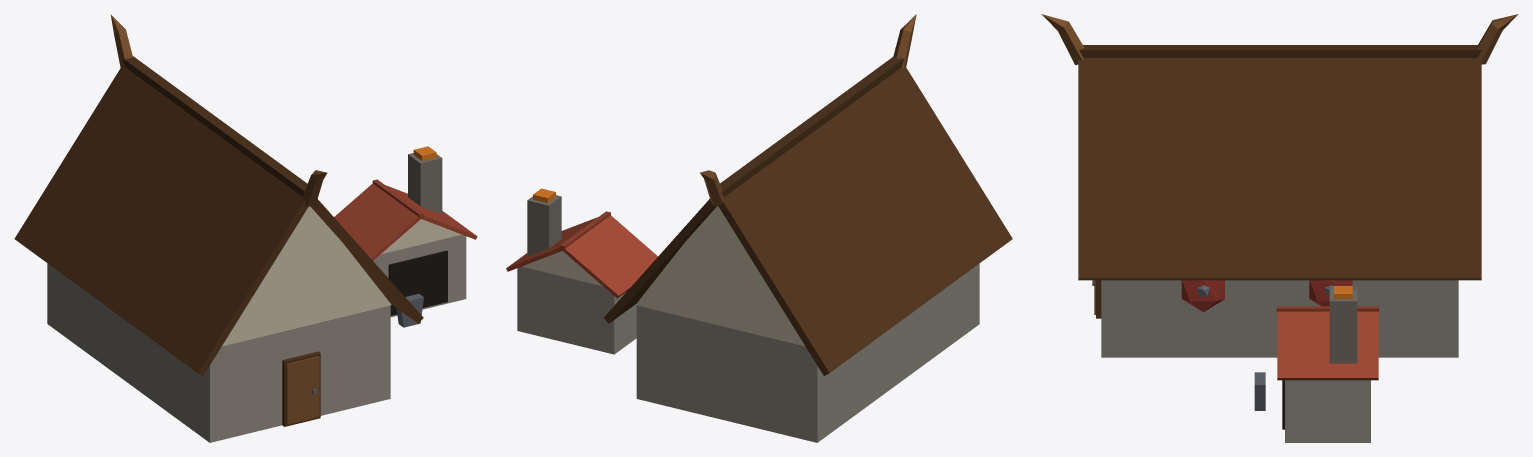
The model's file is dwarf_hall.glb.
The picture shows the model from 3 angles, left to right: view 1: azimuth 30°, elevation 25°; view 2: azimuth 150°, elevation 25°; view 3: azimuth 270°, elevation 25°; orthographic projection. The views are drawn at different scales.
Visible parts, largest first — view 1: dwarf_hall; view 2: dwarf_hall; view 3: dwarf_hall.
Boxes of the visible parts, x1,y1,x2,y2 form: dwarf_hall: (14,14,477,442); dwarf_hall: (506,14,1012,442); dwarf_hall: (1041,14,1518,442).
Bounding box in the file's own units: 5.35 × 3.7 × 5.42.
